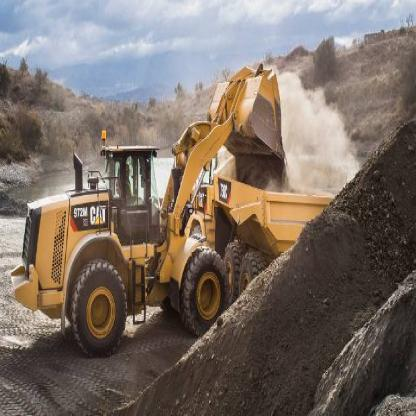bull_dozer/loader/grader: (12, 58, 292, 357)
